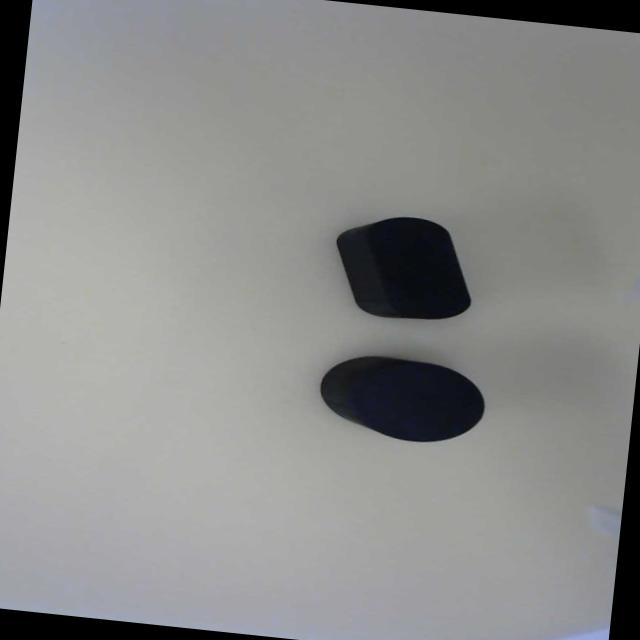circle: (344, 353, 492, 448)
oval: (362, 216, 476, 319)
